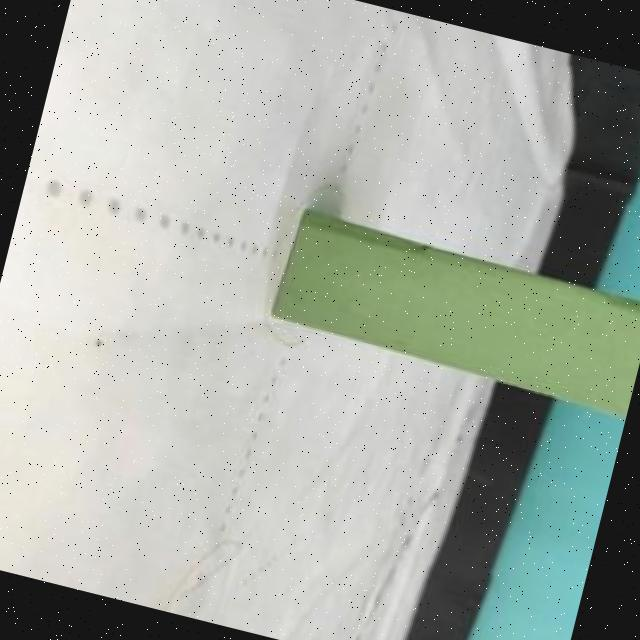greenbox: (269, 203, 640, 413)
